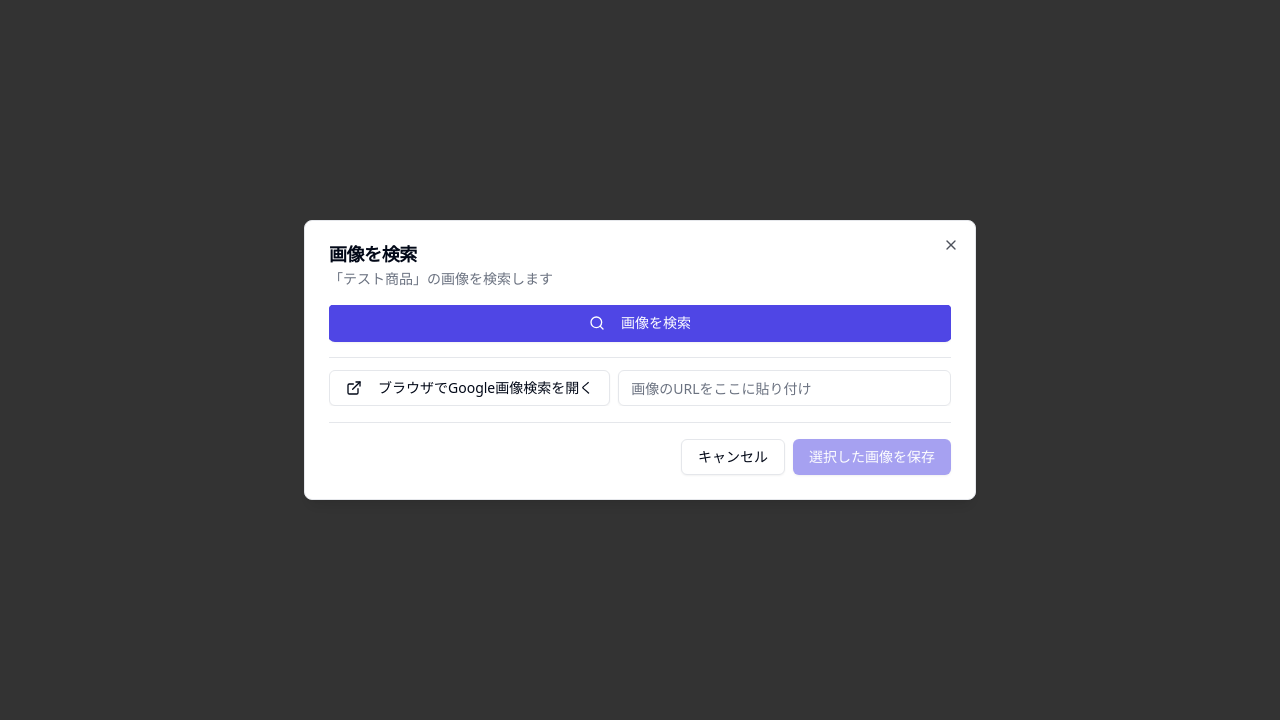
ImageSearchDialog › handles non-Error in catch block
The width and height of the screenshot is (1280, 720).
What coordinates should you click on to do the following:
click the button "画像を検索"
I would click on:
 (640, 323)
Its box is [329, 305, 951, 341].
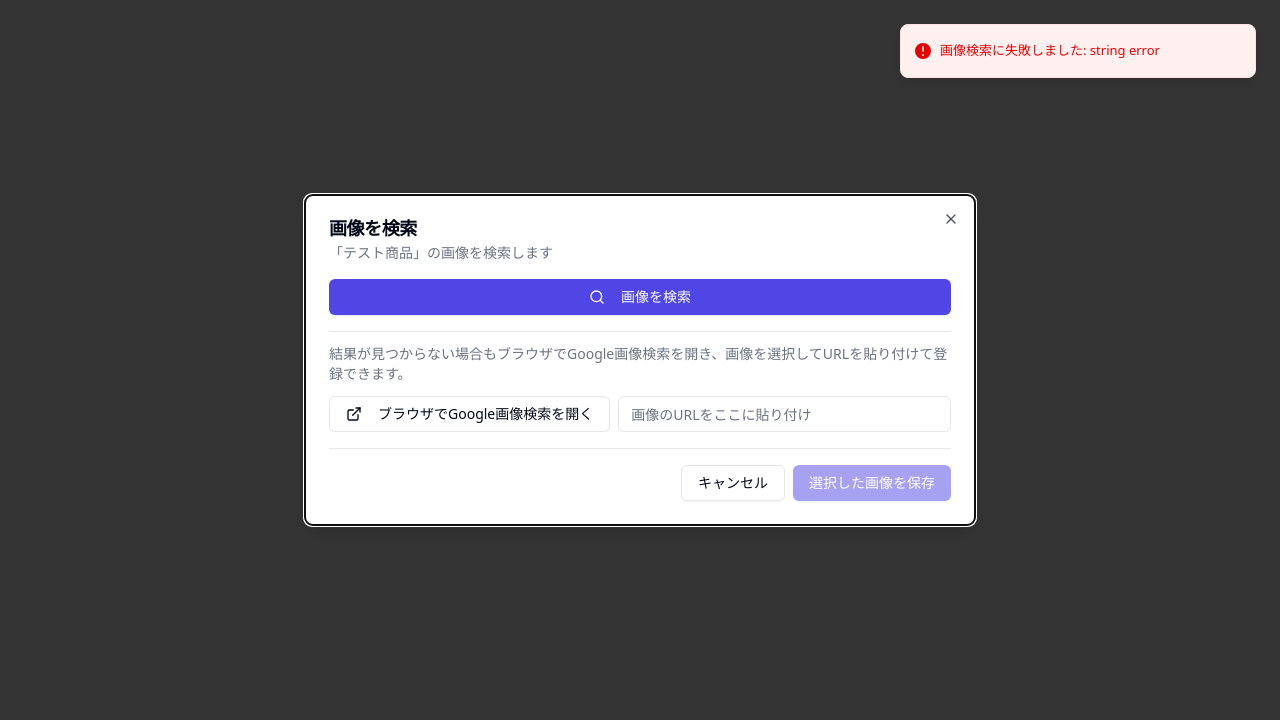
Check: the text "画像検索に失敗しました: string error" is shown, box [940, 41, 1160, 60]
